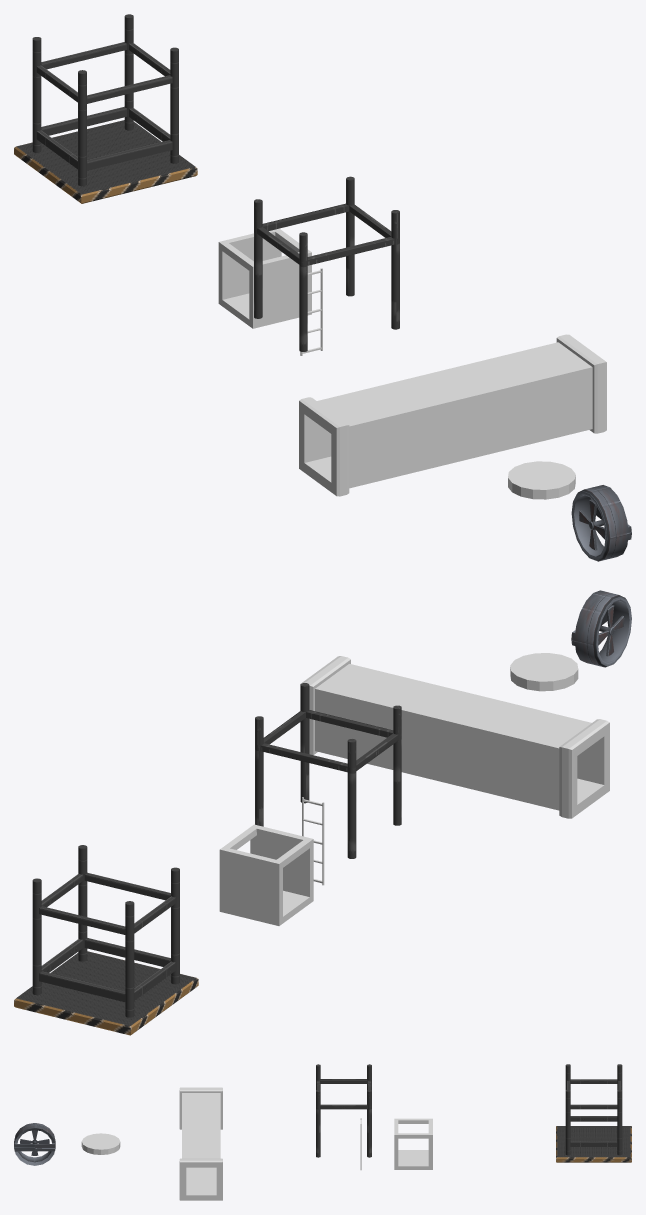
Rendered from Platform 1.fbx.
3 views of the same model, one above another, from view 1: azimuth 30°, elevation 25°; view 2: azimuth 150°, elevation 25°; view 3: azimuth 270°, elevation 25° (orthographic). The views are drawn at different scales.
Parts seen in each view (by area): view 1: Cube, Cylinder.004, Cube.002, Cylinder.002, Cube.001, Cylinder.006, Cylinder.003; view 2: Cube, Cylinder.004, Cube.001, Cube.002, Cylinder.002, Cylinder.006, Cylinder.003; view 3: Cube, Cube.002, Cylinder.004, Cube.001, Cylinder.002, Cylinder.006, Cylinder.003.
Part boxes in pixels (<box>): Cube: <box>299,334,606,496</box>; Cylinder.004: <box>32,14,178,186</box>; Cube.002: <box>14,120,197,203</box>; Cylinder.002: <box>254,176,399,351</box>; Cube.001: <box>218,228,311,328</box>; Cylinder.006: <box>571,485,631,561</box>; Cylinder.003: <box>508,461,575,499</box>; Cube: <box>300,656,609,818</box>; Cylinder.004: <box>32,845,179,1017</box>; Cube.001: <box>219,824,313,925</box>; Cube.002: <box>14,951,198,1035</box>; Cylinder.002: <box>255,683,401,858</box>; Cylinder.006: <box>571,590,631,667</box>; Cylinder.003: <box>510,653,578,691</box>; Cube: <box>179,1087,222,1200</box>; Cube.002: <box>556,1126,631,1162</box>; Cylinder.004: <box>565,1064,622,1155</box>; Cube.001: <box>394,1118,432,1169</box>; Cylinder.002: <box>316,1064,371,1157</box>; Cylinder.006: <box>14,1123,55,1165</box>; Cylinder.003: <box>81,1133,120,1154</box>.
Bounding box in the file's own units: 914 × 511 × 3199.
